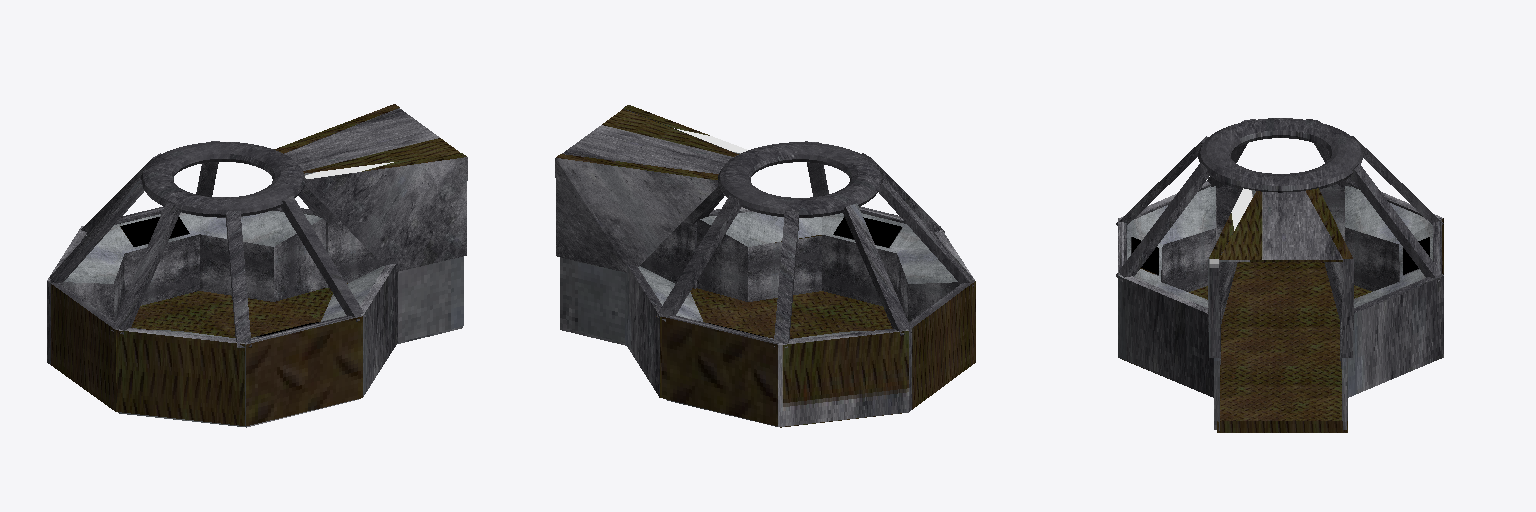
3 renders of one model, left to right at view 1: azimuth 30°, elevation 25°; view 2: azimuth 150°, elevation 25°; view 3: azimuth 270°, elevation 25°, orthographic.
Parts seen in each view (by area): view 1: bedienfeld_links_Cube.022; view 2: bedienfeld_links_Cube.022; view 3: bedienfeld_links_Cube.022.
Part boxes in pixels (x1,y1,x2,y2): bedienfeld_links_Cube.022: (47, 104, 467, 427); bedienfeld_links_Cube.022: (555, 105, 975, 427); bedienfeld_links_Cube.022: (1116, 118, 1443, 432).
Bounding box in the file's own units: 9.01 × 4.49 × 7.29.
Materials: 1 (1 with a texture image).